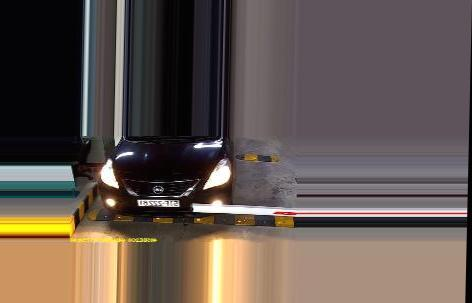License_Plate: (137, 198, 180, 209)
